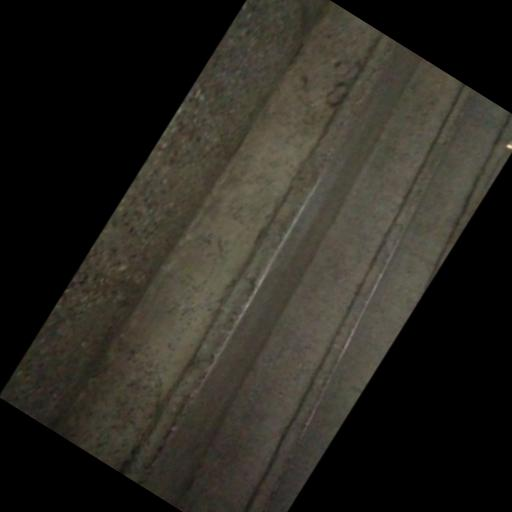stairs: (59, 0, 511, 511)
